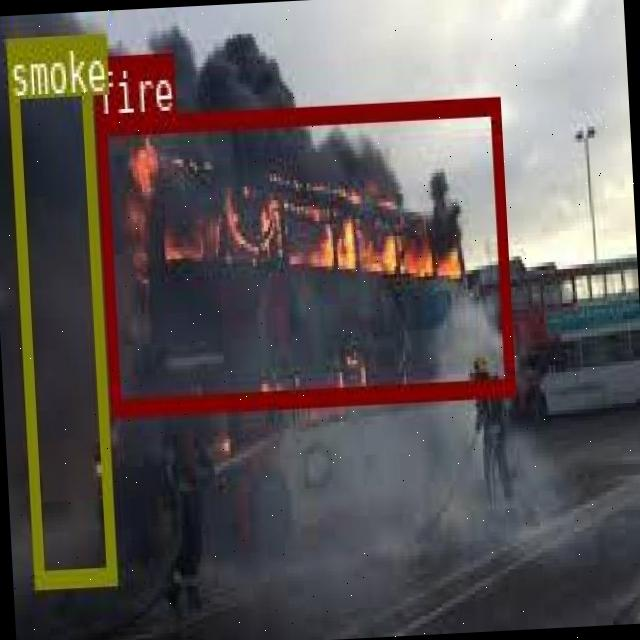fire: (94, 96, 513, 414)
smoke: (5, 34, 114, 583)
